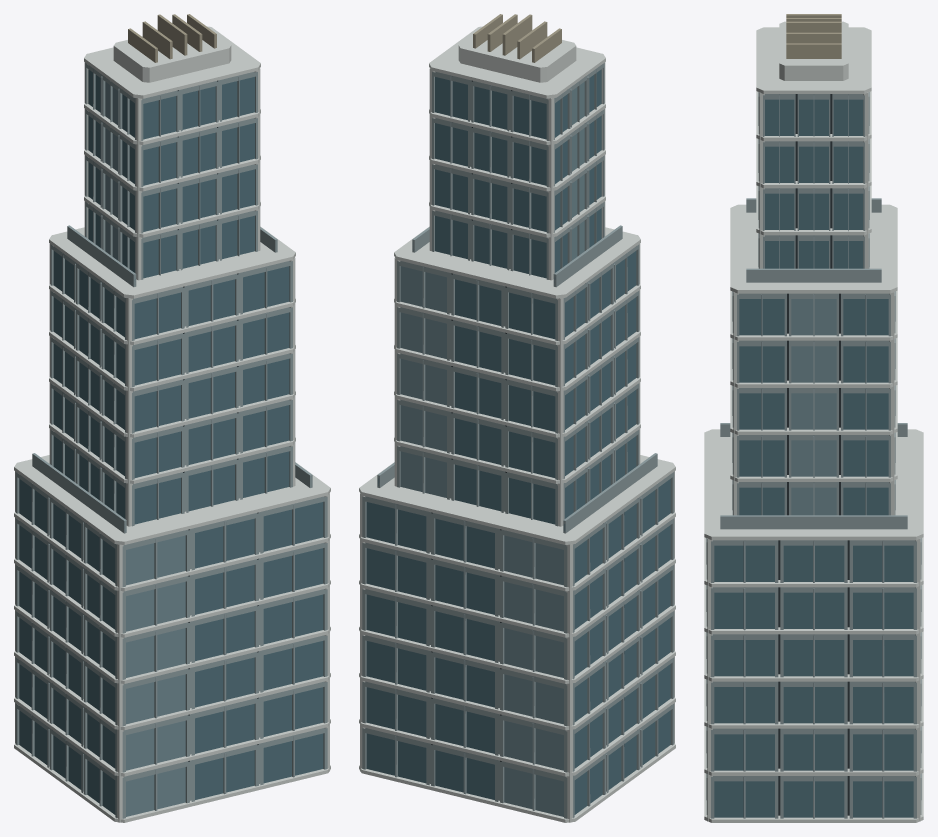
The model's file is skyline-terraced.glb.
3 renders of one model, left to right at view 1: azimuth 30°, elevation 25°; view 2: azimuth 150°, elevation 25°; view 3: azimuth 270°, elevation 25°, orthographic.
Parts seen in each view (by area): view 1: Miami terraced limestone tower; view 2: Miami terraced limestone tower; view 3: Miami terraced limestone tower.
Boxes of the visible parts, left/top/right/bottom form: Miami terraced limestone tower: left=14, top=14, right=330, bottom=822; Miami terraced limestone tower: left=359, top=14, right=675, bottom=822; Miami terraced limestone tower: left=704, top=14, right=923, bottom=822.
Size of the model in its own units: 14.65 by 47.55 by 12.65.
